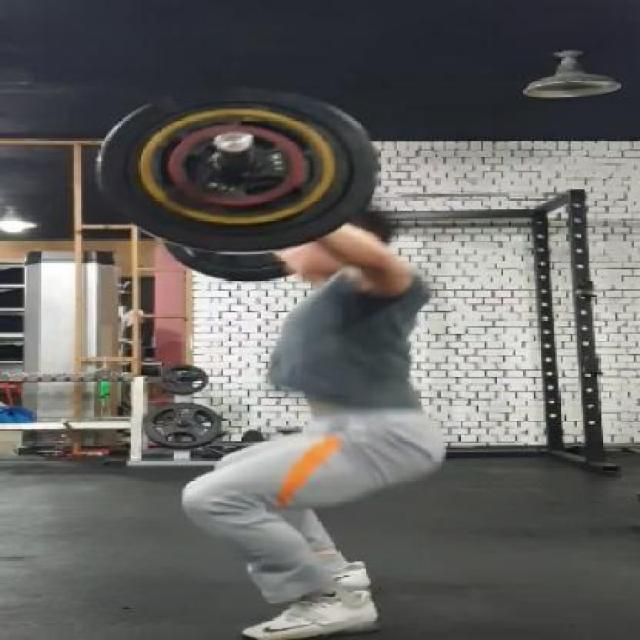barbell: (90, 84, 382, 262)
